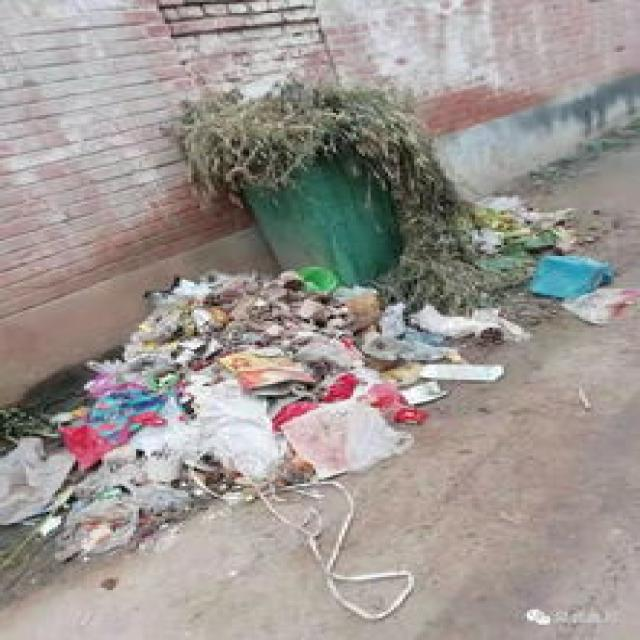garbage: (0, 190, 631, 618)
overflow: (165, 76, 400, 278)
